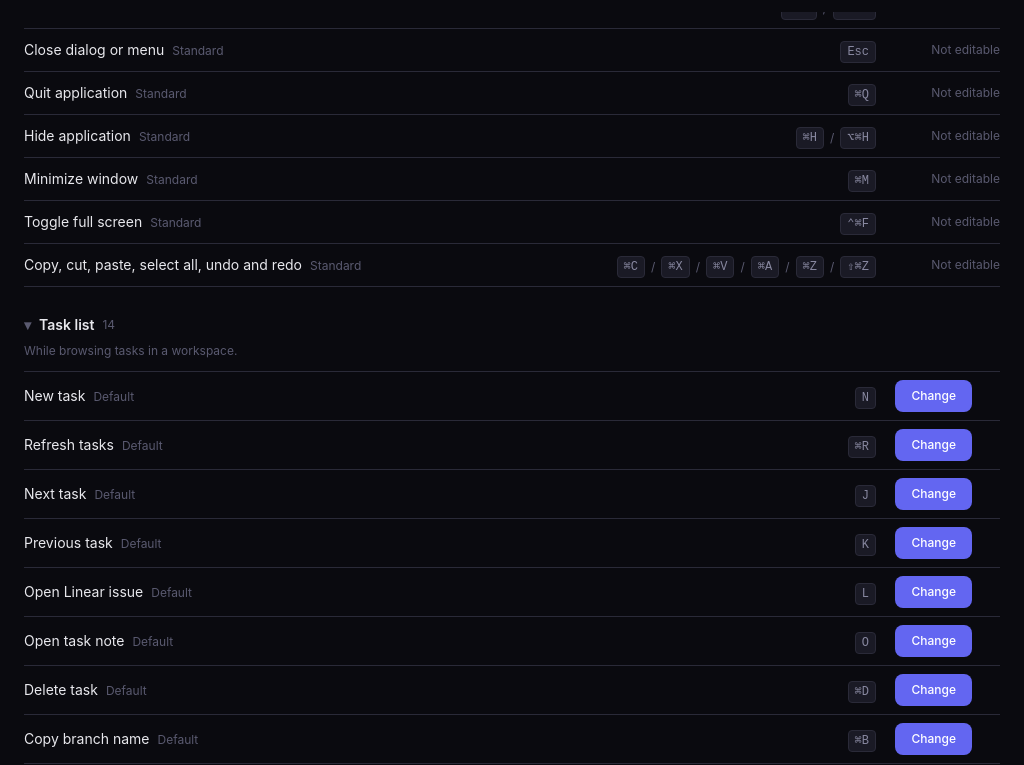
shows a failed save without closing the recorder or changing bindings
(page scrolled)
Click the button with aria-label "Change New task (Task list)": (934, 396) [896,380,972,412]
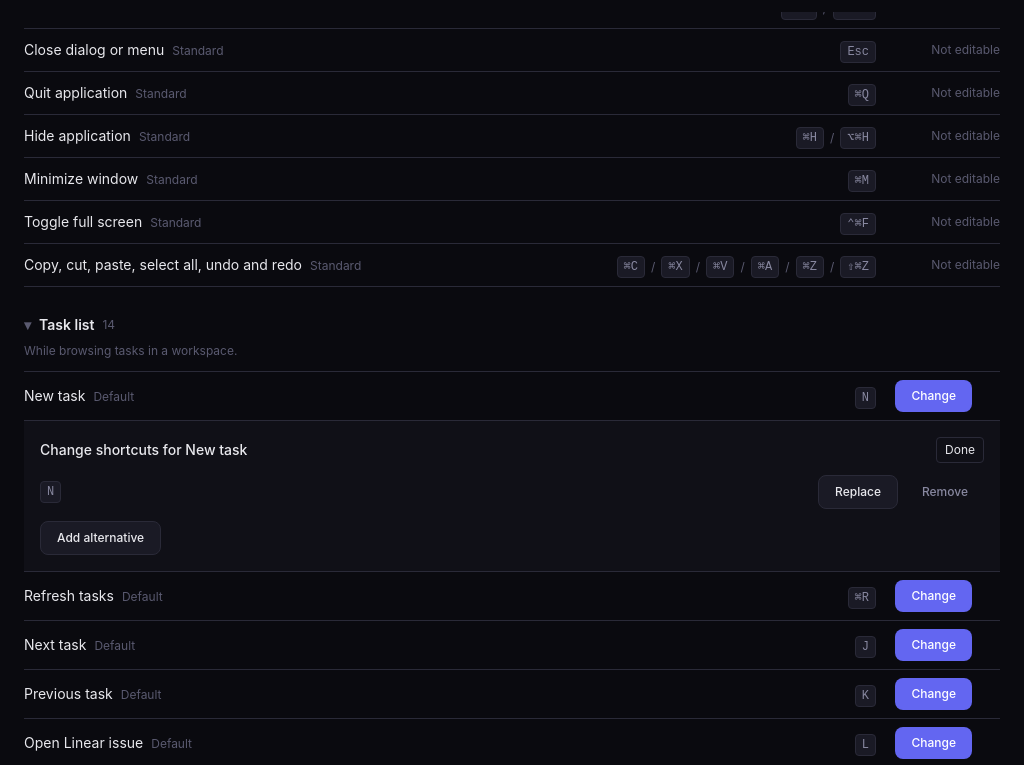
Click the button "Add alternative": (101, 538) [40,521,161,555]
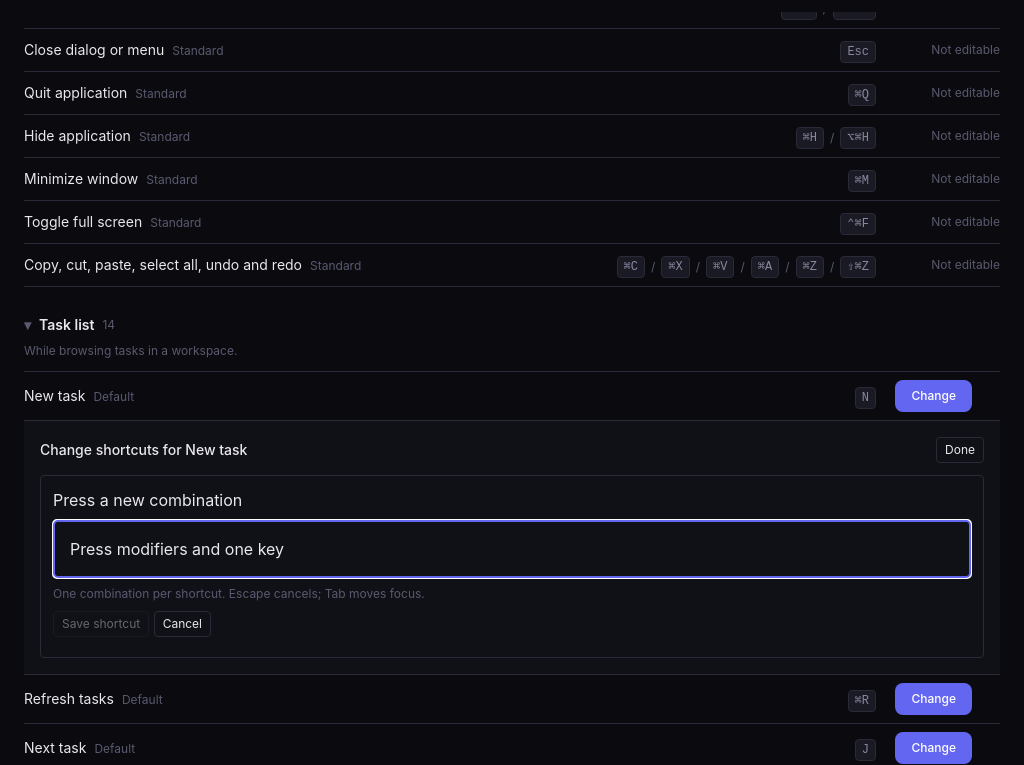
Press y in the text named "Record shortcut", box [53,520,971,578]
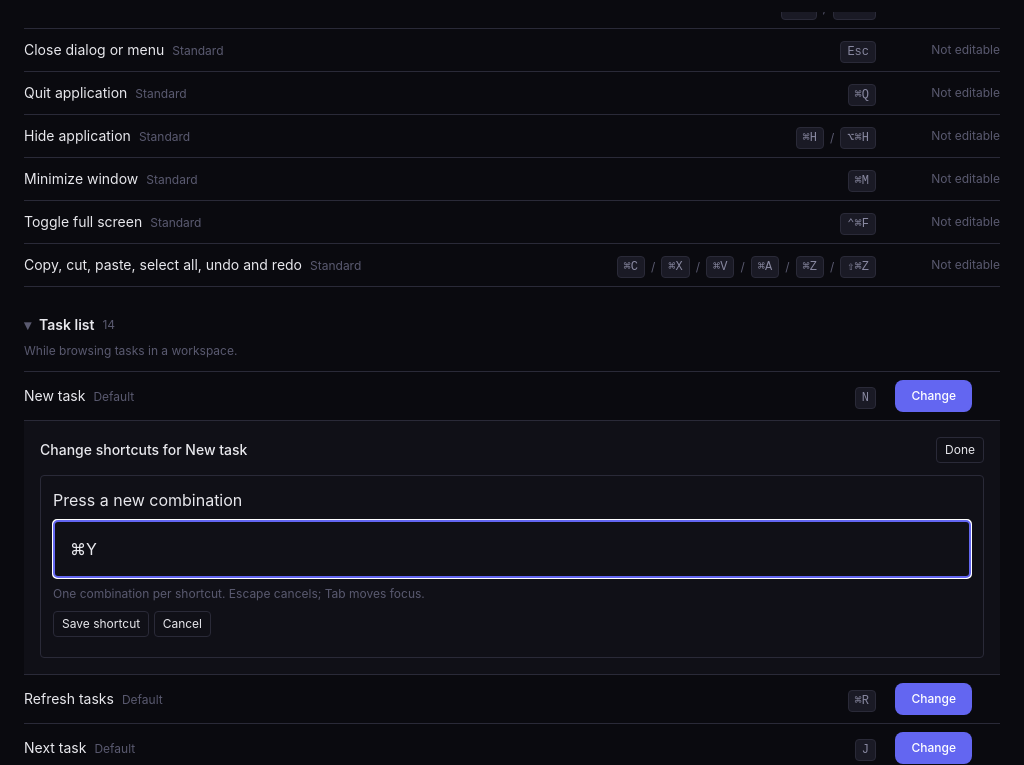
Click the button "Save shortcut": (101, 624) [53,611,149,637]
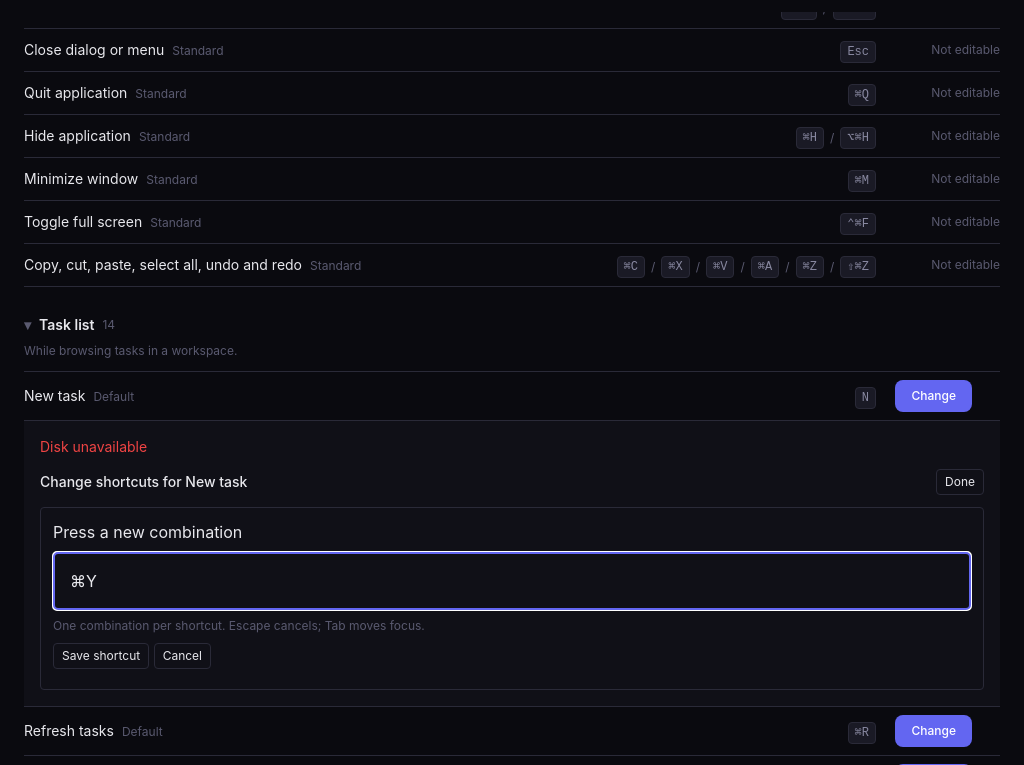
Result: the text named "Record shortcut" is shown at [53,552,971,610]
Result: the message reads "Disk unavailable" at [40,438,147,455]
